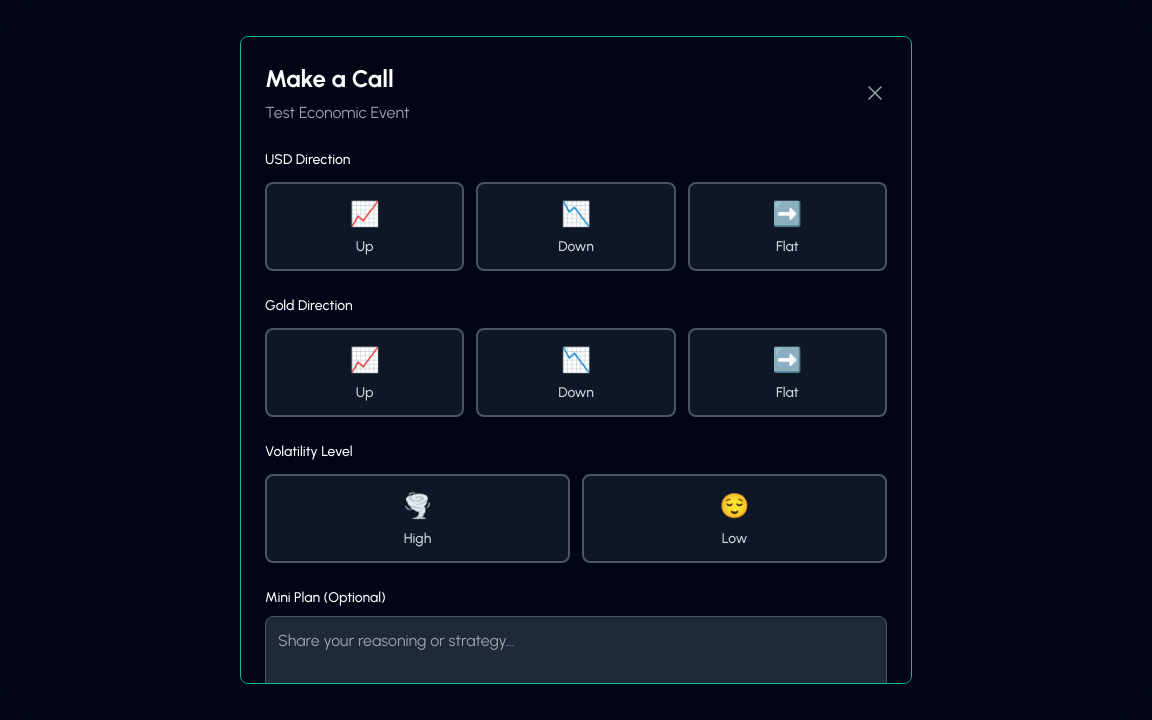
MakeCallModal › submit button is enabled when all required fields are filled
Click the button "📈 Up" below "USD Direction" at (365, 226), box [265, 182, 464, 271]
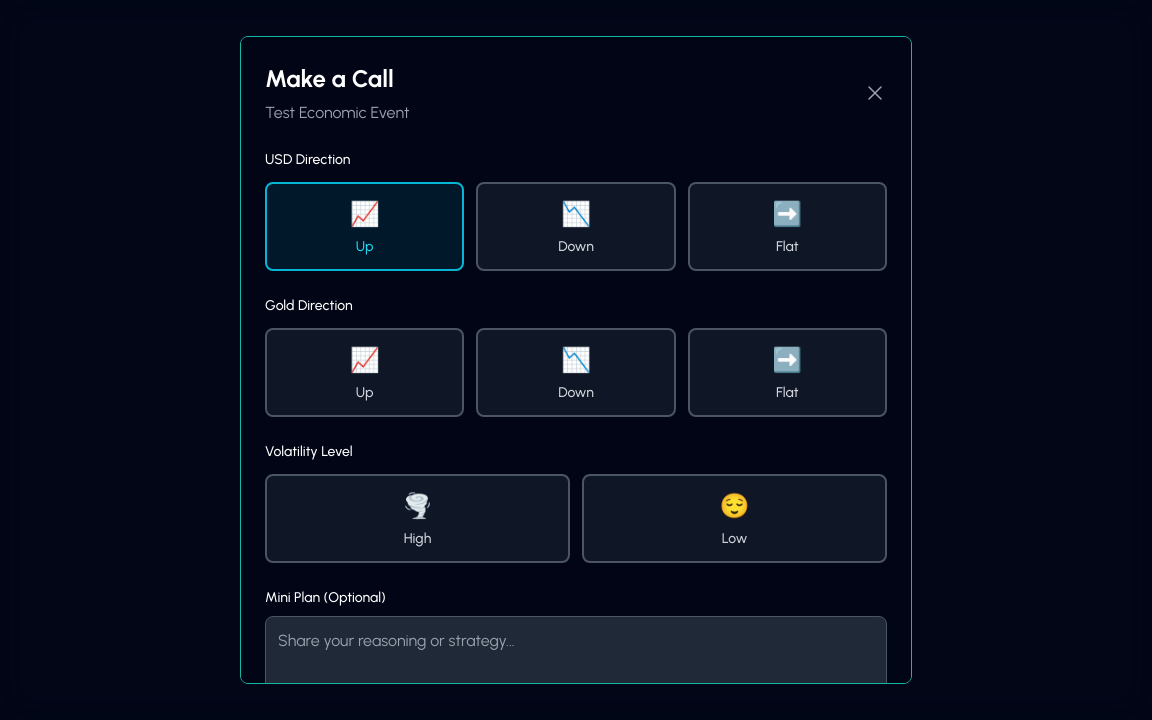
Click the button "📈 Up" below "Gold Direction" at (365, 372), box [265, 328, 464, 417]
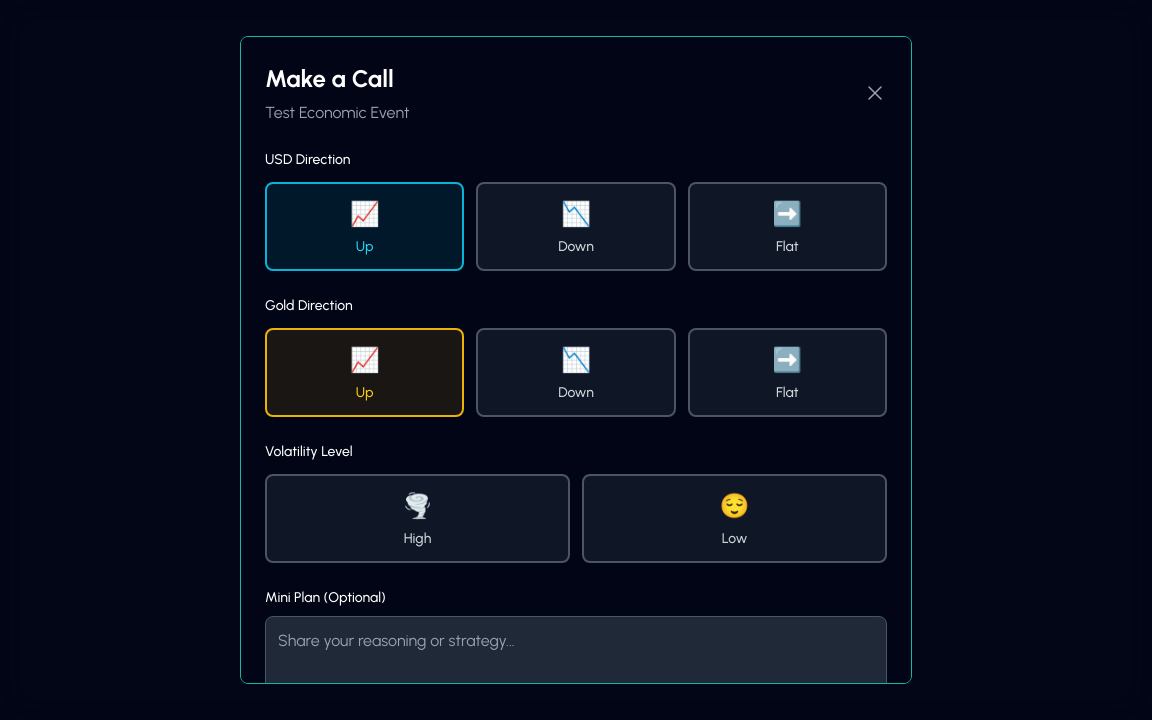
Click the button "🌪️ High" at (418, 518), box [265, 474, 570, 563]
(page scrolled)
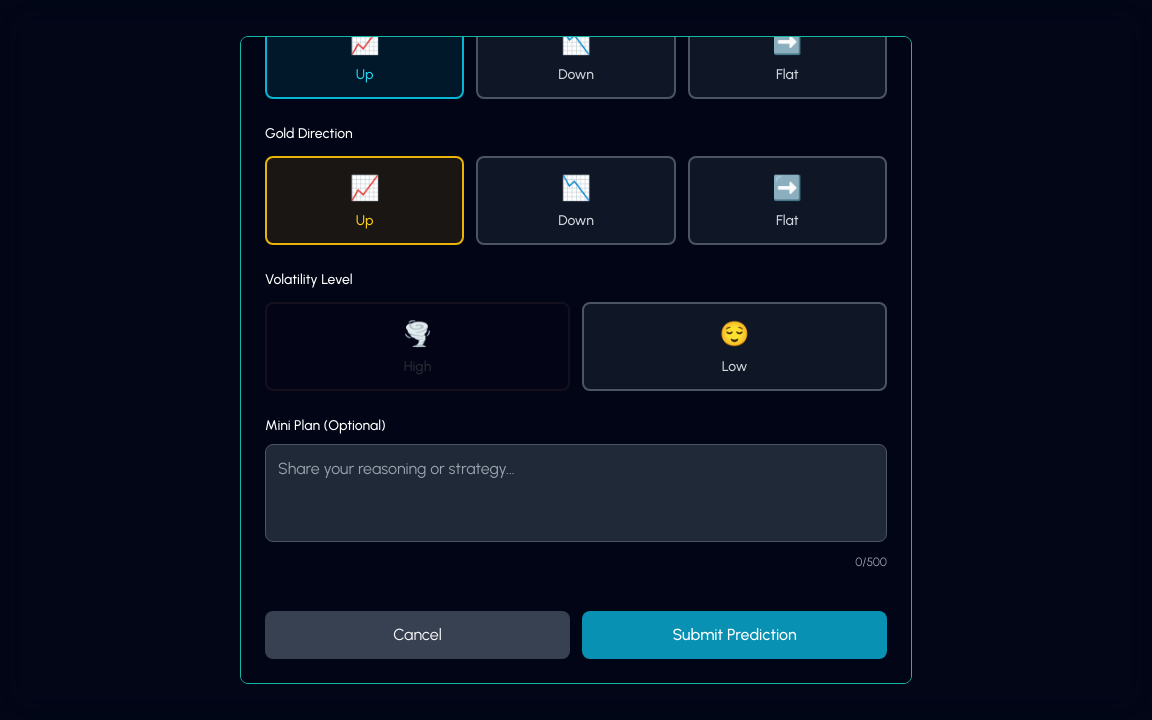
Expected: the button "Submit Prediction" is enabled, [582, 611, 887, 659]
